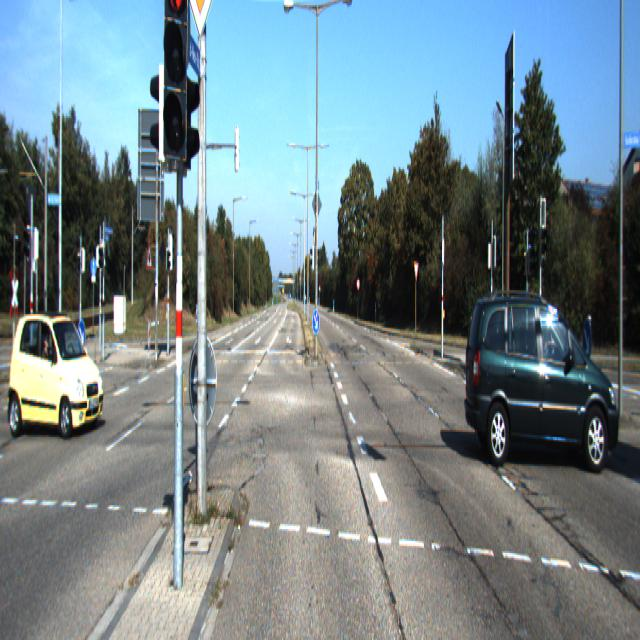Car: (460, 277, 624, 474), (4, 304, 106, 433)
